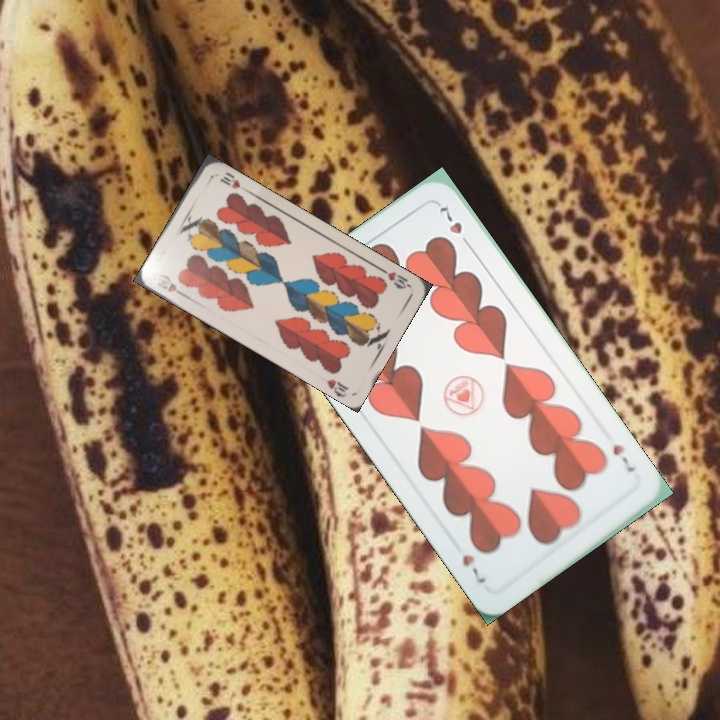H10: (376, 264, 413, 292), (153, 276, 189, 300)
H7: (608, 440, 638, 476)
